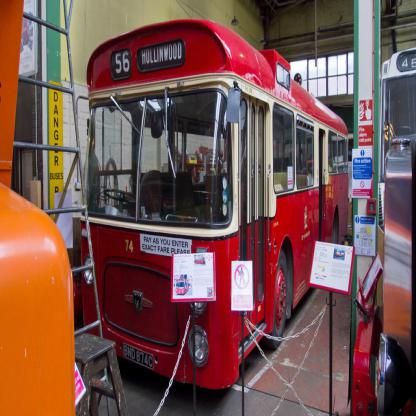Bus: (80, 20, 349, 391), (380, 49, 416, 227)
